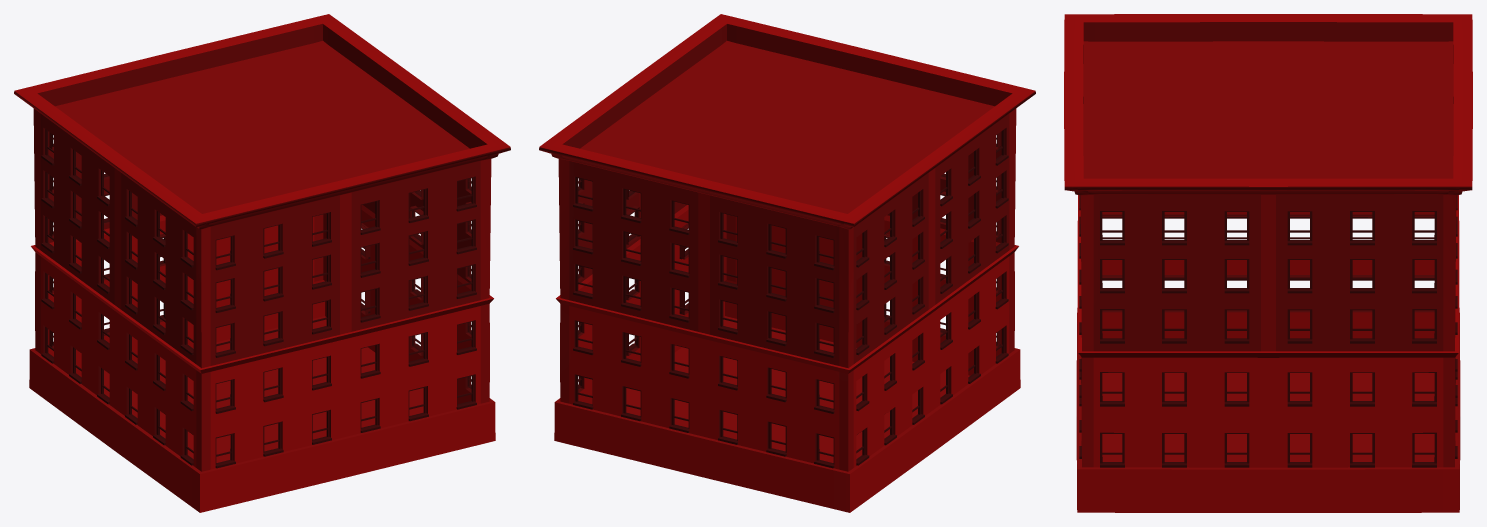
3 views of the same model, side by side, from view 1: azimuth 30°, elevation 25°; view 2: azimuth 150°, elevation 25°; view 3: azimuth 270°, elevation 25° (orthographic). The views are drawn at different scales.
Visible parts, largest first — view 1: base.183; view 2: base.183; view 3: base.183.
Boxes of the visible parts, left/top/right/bottom form: base.183: left=14, top=14, right=510, bottom=512; base.183: left=539, top=14, right=1035, bottom=512; base.183: left=1064, top=14, right=1472, bottom=512.
Size of the model in its own units: 2390 by 2390 by 2137.
